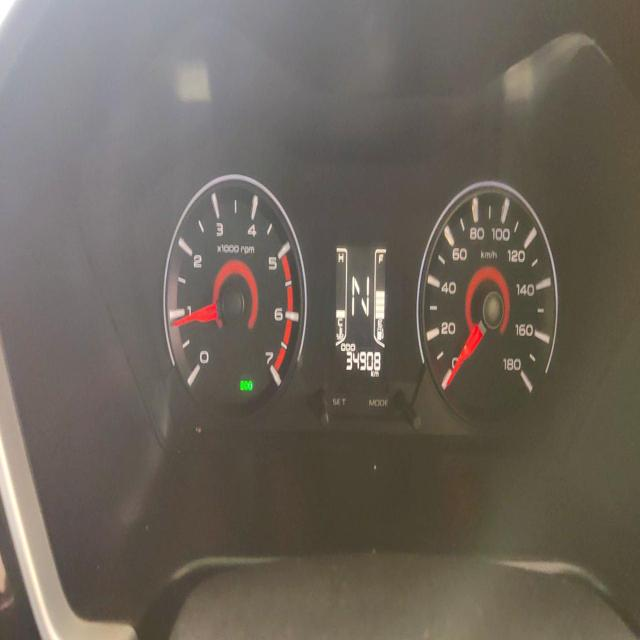odometer: (342, 349, 382, 372)
